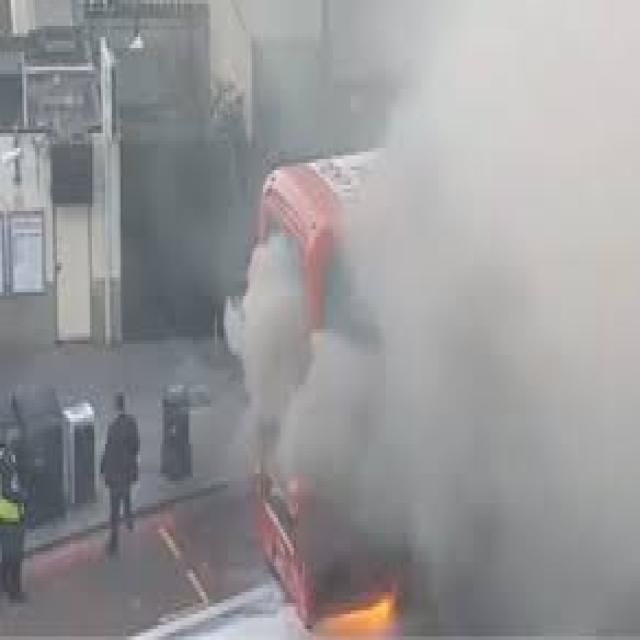Fire: (321, 595, 398, 640)
Smoke: (322, 9, 640, 485), (396, 456, 640, 640), (215, 238, 308, 458)
